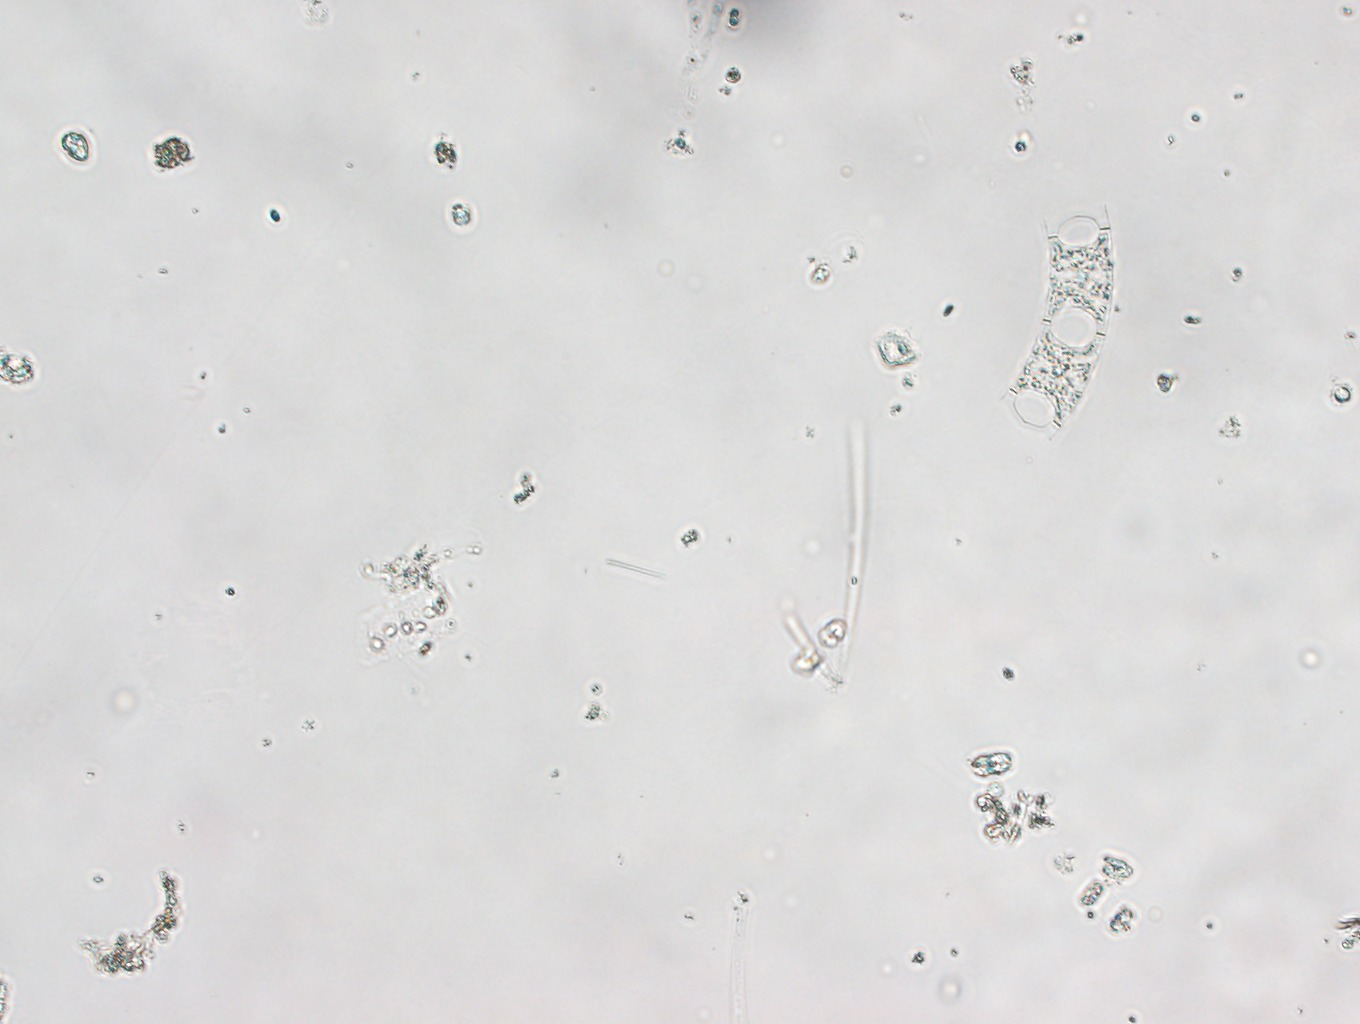eucampia: (992, 198, 1118, 445)
